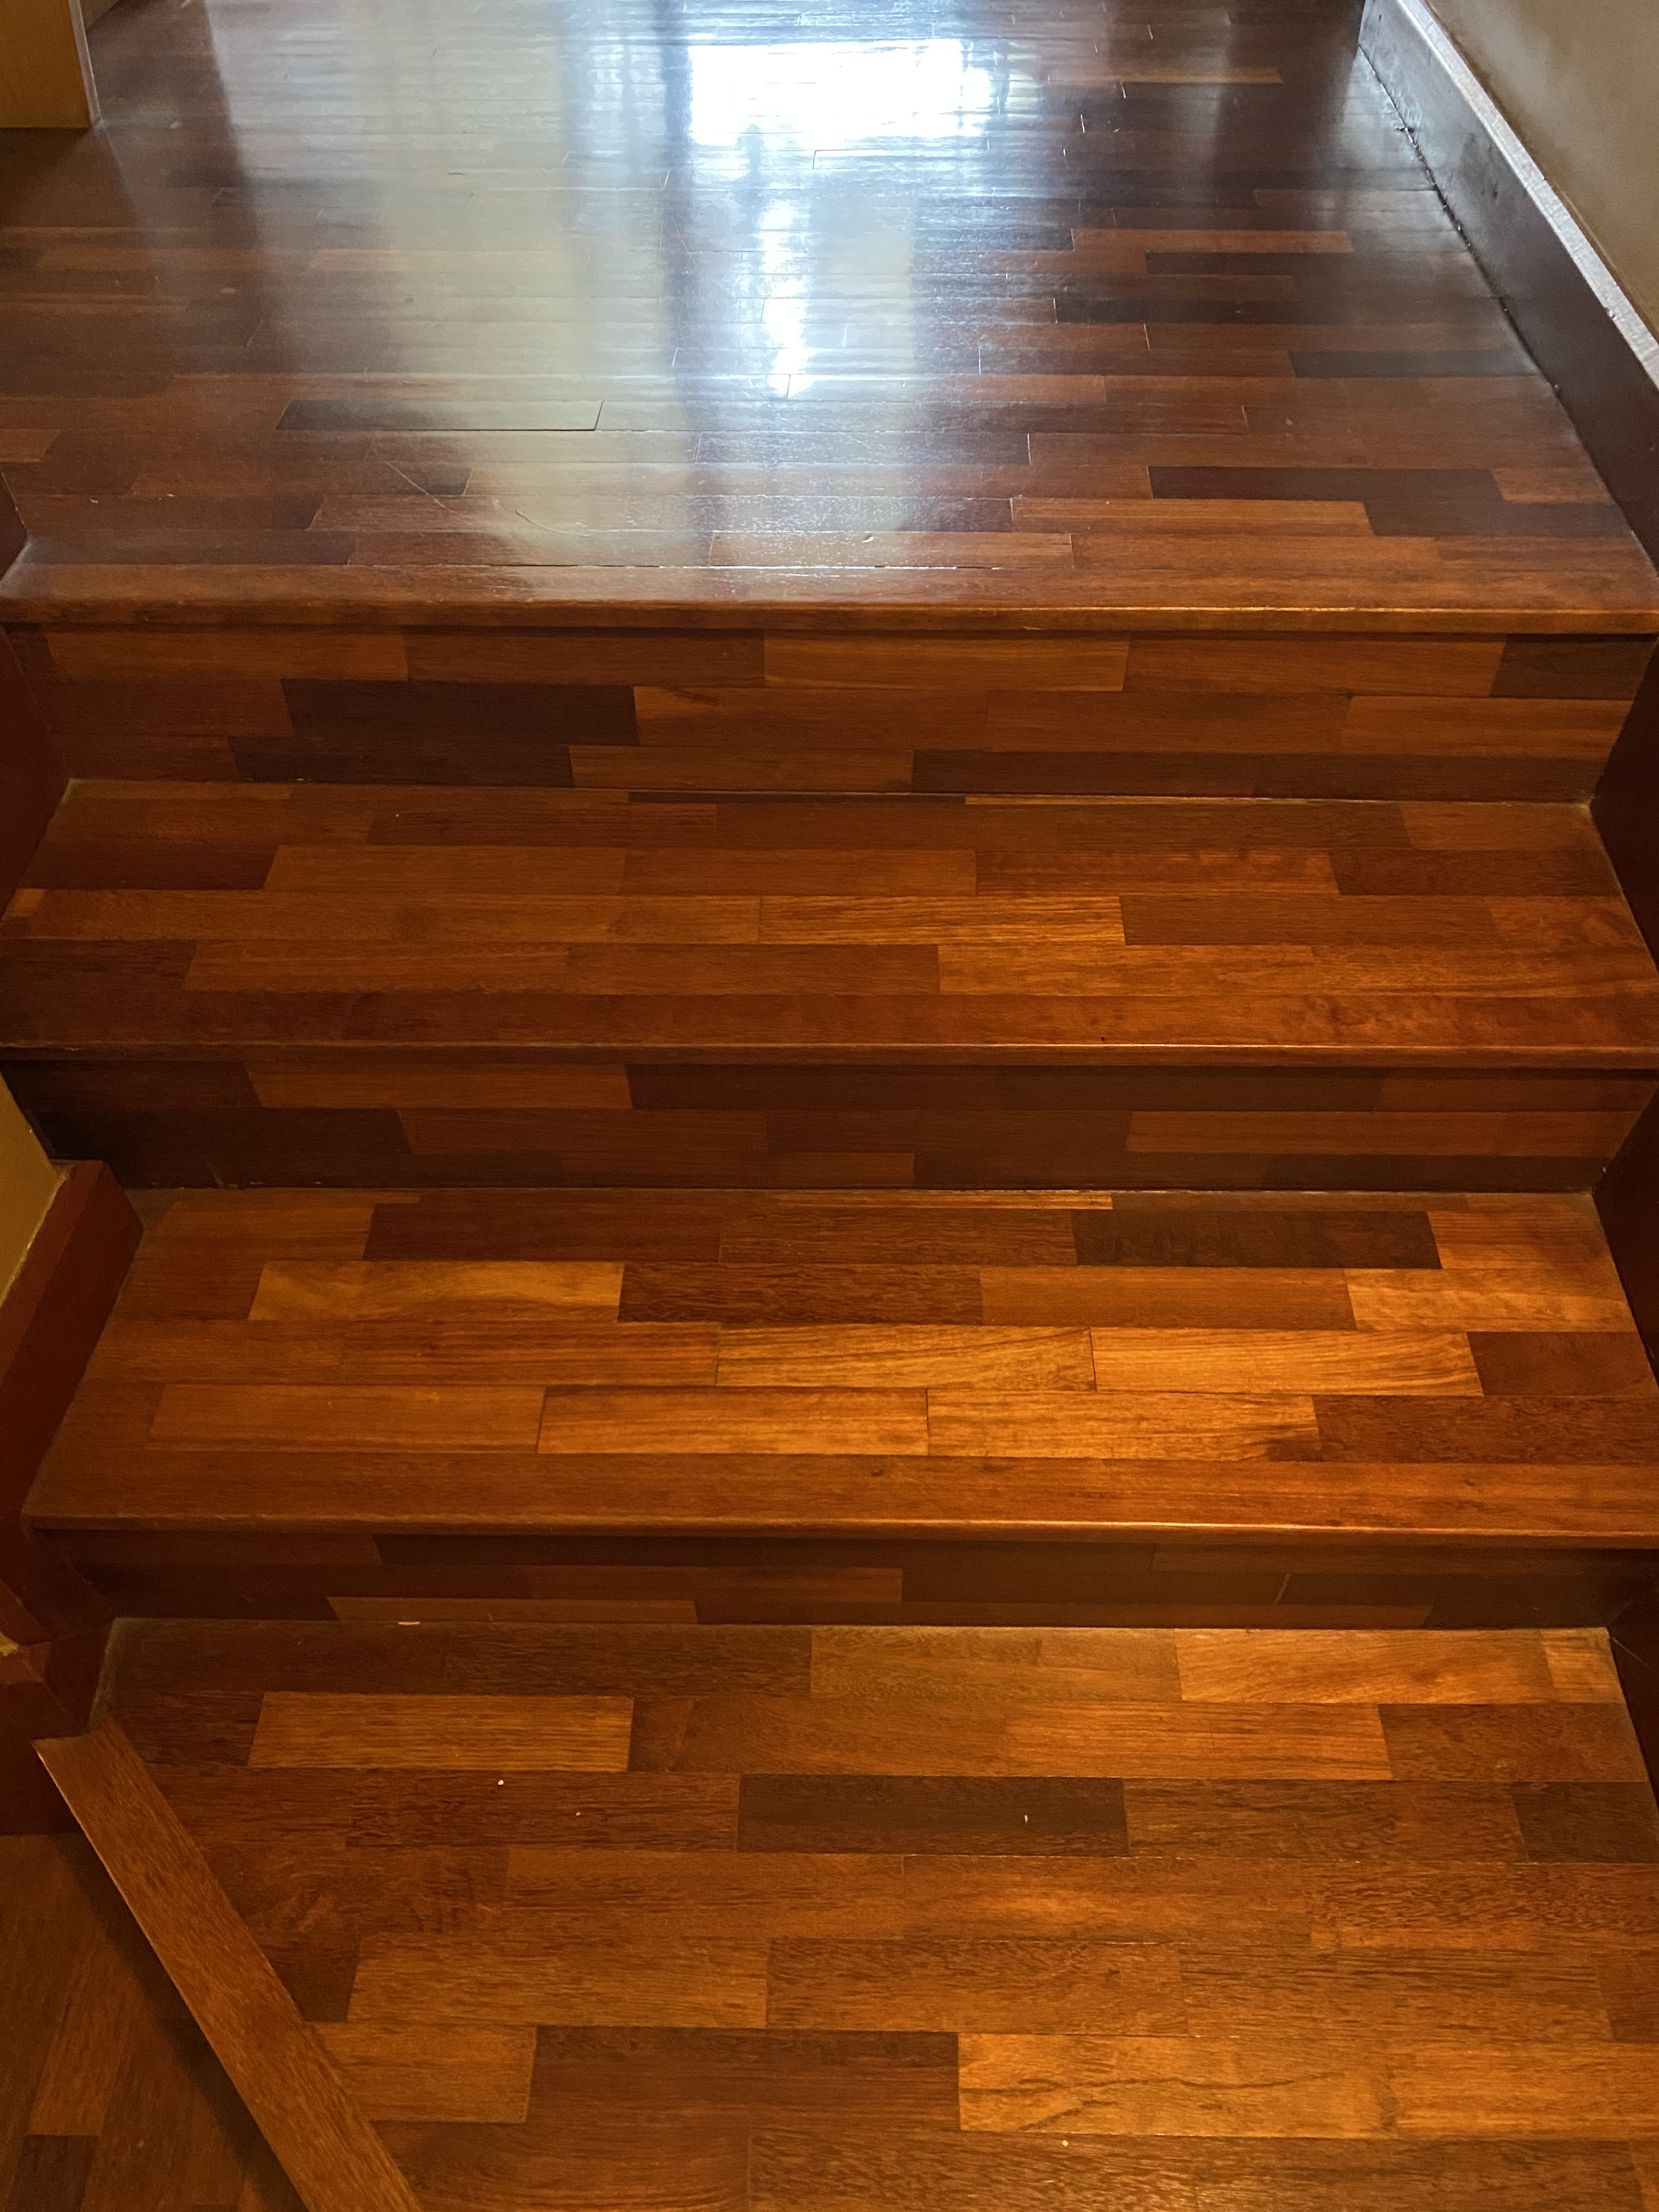upstairs: (70, 495, 1659, 1754)
